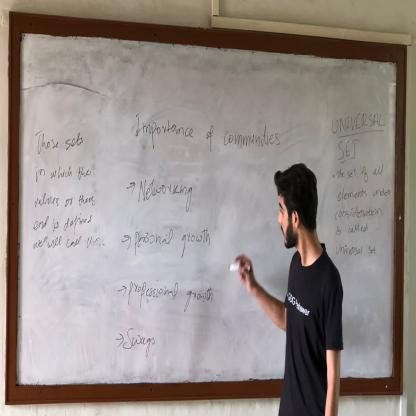Handwritten text: (130, 97, 284, 158), (126, 271, 219, 319), (132, 223, 212, 262), (136, 169, 196, 213), (27, 233, 105, 263), (34, 121, 86, 158), (30, 188, 96, 215), (31, 160, 95, 187), (331, 106, 388, 136), (123, 321, 158, 367), (332, 239, 386, 268), (34, 214, 95, 237), (334, 187, 394, 205), (335, 163, 387, 183), (331, 202, 385, 221), (336, 134, 359, 163), (335, 222, 377, 237)
Lecturer: (251, 155, 347, 399)
Whiteboard: (13, 26, 401, 394)
